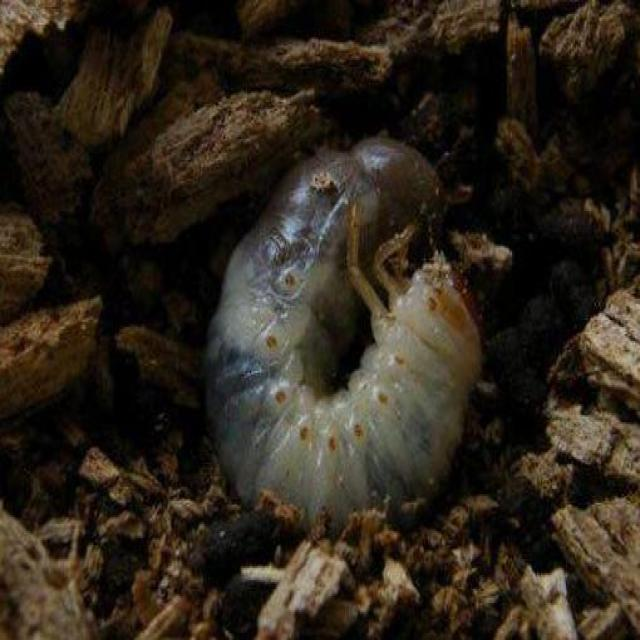Grub-Adult-: (188, 104, 491, 552)
